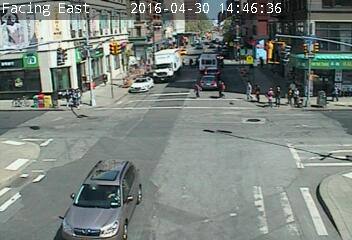neg: (125, 19, 148, 49), (24, 88, 46, 117), (55, 85, 76, 114), (314, 146, 335, 175), (70, 36, 90, 63), (4, 90, 22, 115), (276, 47, 294, 71), (308, 90, 324, 112), (311, 193, 327, 215), (176, 29, 191, 50), (241, 51, 256, 71), (293, 60, 308, 80), (229, 41, 244, 60), (97, 45, 112, 64), (210, 22, 225, 41), (201, 49, 215, 68), (301, 68, 314, 87), (311, 43, 324, 61), (82, 72, 95, 90), (253, 28, 266, 46), (24, 32, 37, 49), (234, 22, 246, 39), (199, 30, 211, 46), (164, 34, 176, 49), (78, 109, 90, 124), (121, 73, 131, 87)
pos: (269, 83, 288, 110), (261, 85, 280, 111), (249, 83, 268, 107), (212, 76, 230, 101), (280, 85, 298, 110), (240, 80, 258, 104), (189, 80, 206, 102), (327, 81, 343, 103), (289, 87, 303, 106)
